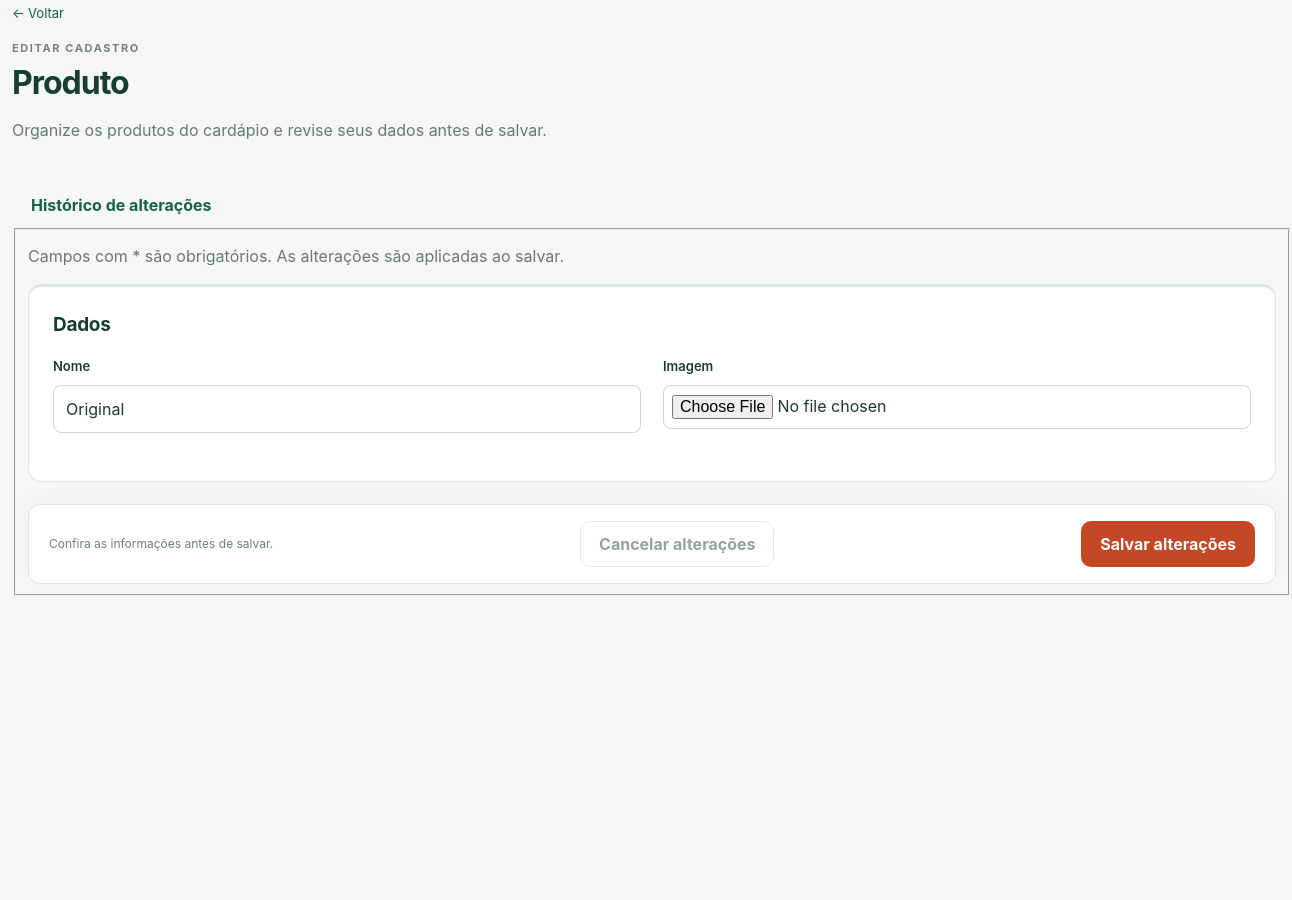
it: reloads persisted values after successful save and allows leaving
The image size is (1292, 900).
Replace the text in the field labelled "Nome" with "Nome salvo". click: (347, 409)
box: [53,385,641,433]
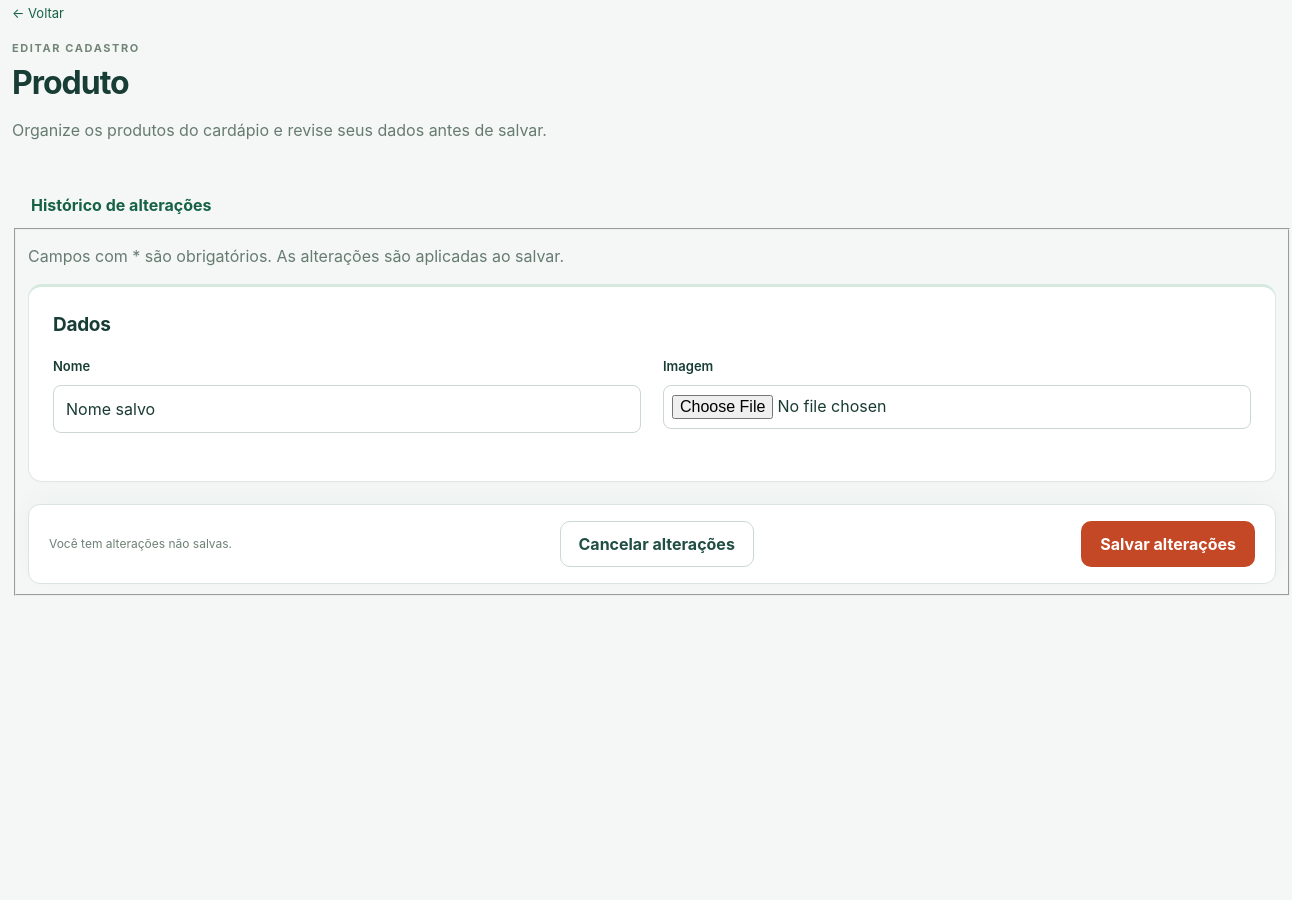
Submit the form, box [12,228,1291,596]
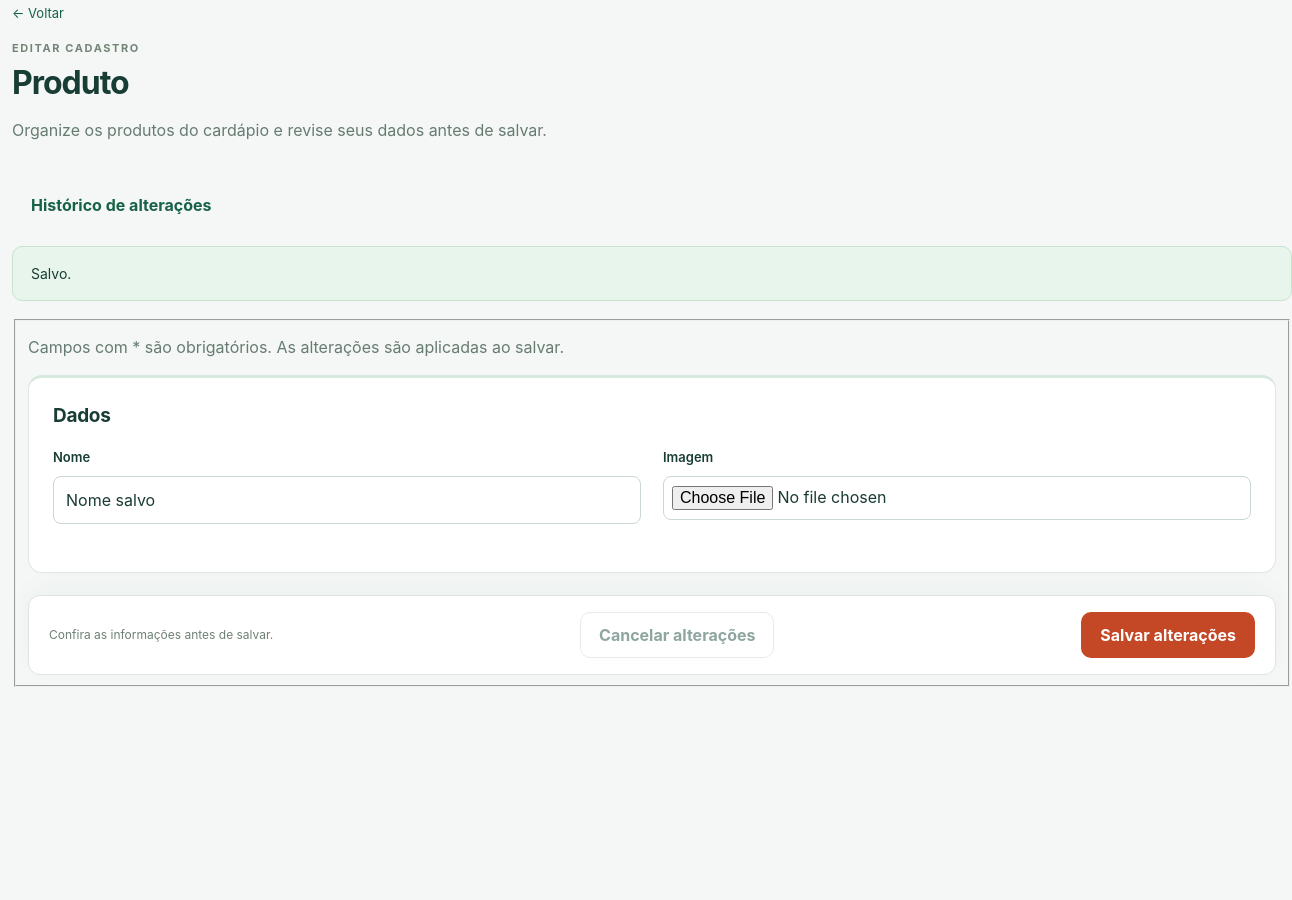
Result: the field labelled "Nome" holds "Nome salvo" at [53,476,641,524]
Click the link "← Voltar". click: (38, 14)
box: [12,4,64,24]
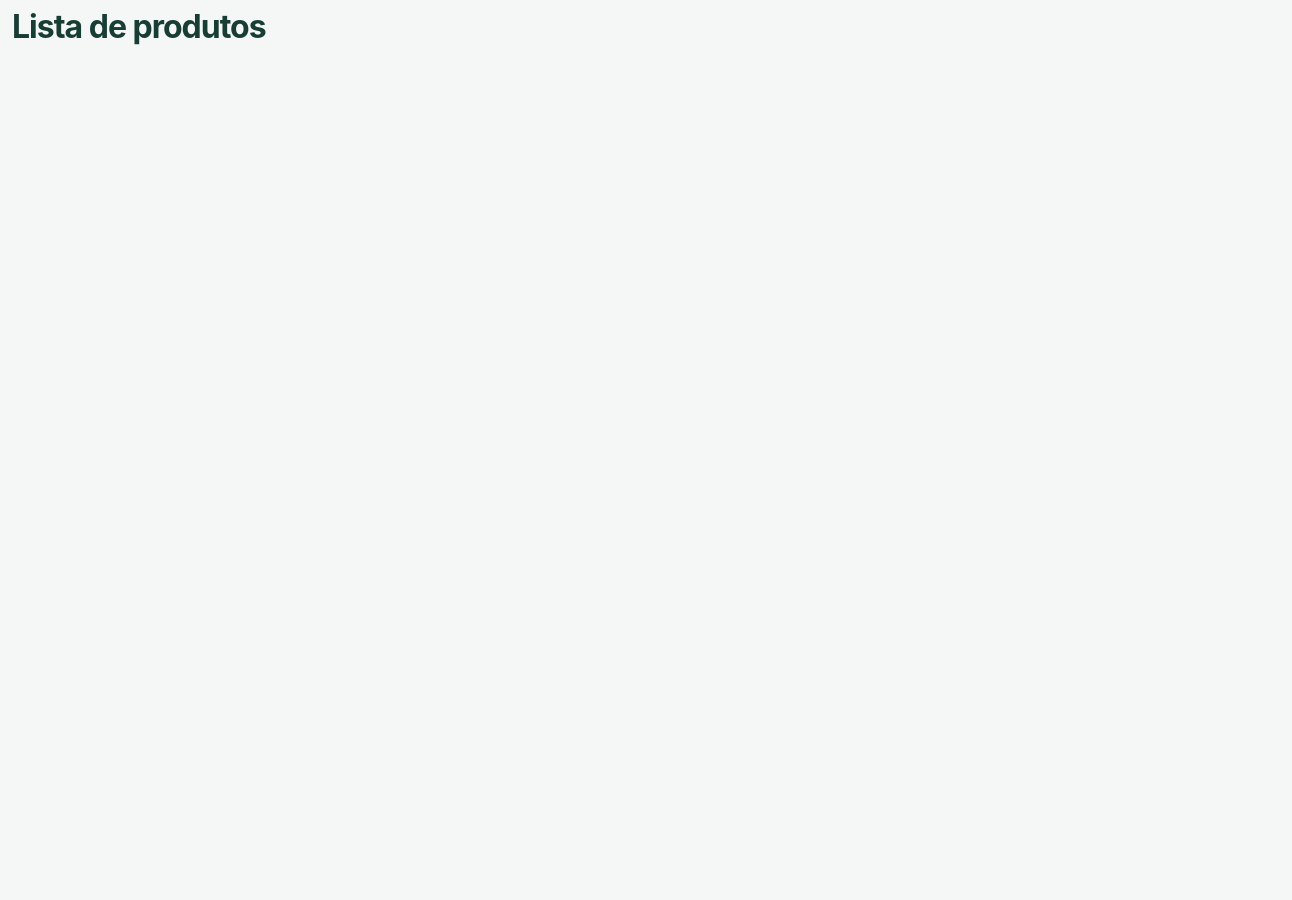
Result: the heading "Lista de produtos" is shown at [12,7,266,46]
